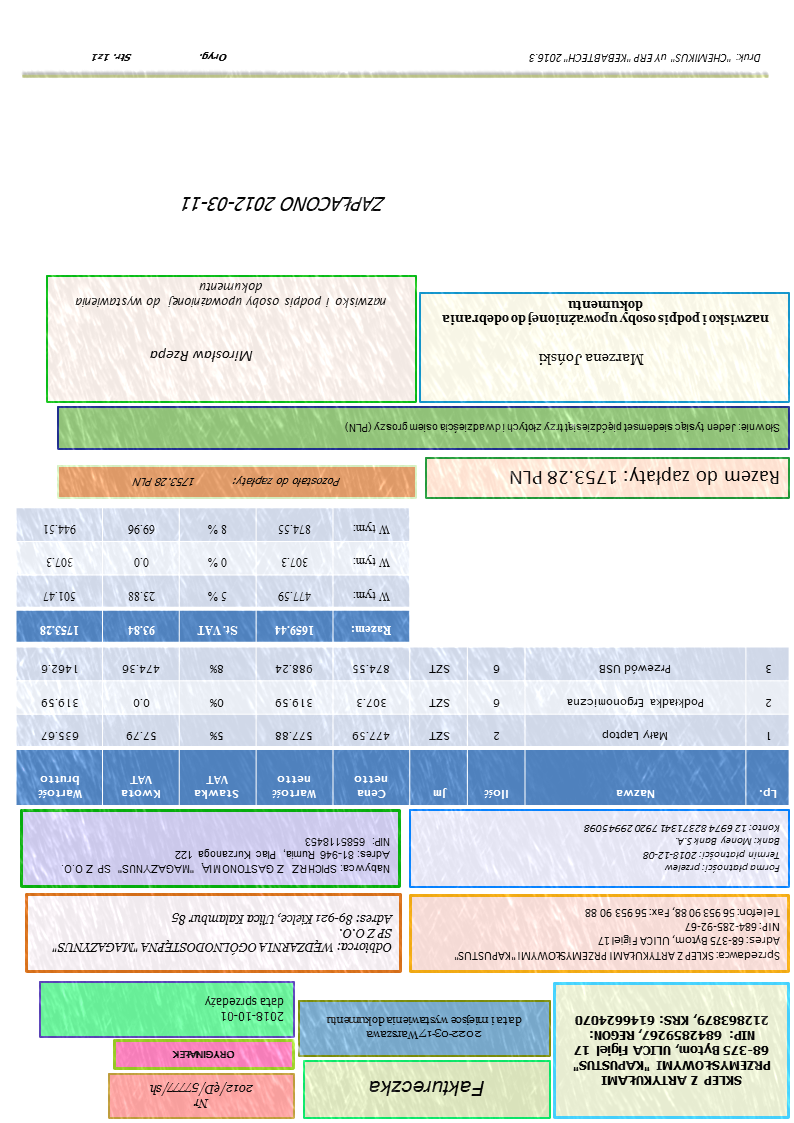Table: (14, 645, 791, 808), (14, 509, 411, 646)
TextBox: (454, 904, 784, 967), (49, 909, 395, 959), (571, 1011, 775, 1092), (60, 834, 392, 878), (581, 821, 783, 877), (440, 297, 772, 329), (73, 280, 390, 313), (341, 418, 784, 437), (508, 465, 784, 491), (324, 1012, 525, 1044), (176, 192, 388, 219), (524, 50, 764, 68), (129, 473, 345, 492), (148, 1079, 256, 1112), (367, 1074, 489, 1102), (205, 994, 287, 1027), (537, 349, 649, 372), (89, 49, 231, 66), (147, 346, 256, 368), (173, 1047, 238, 1064)
